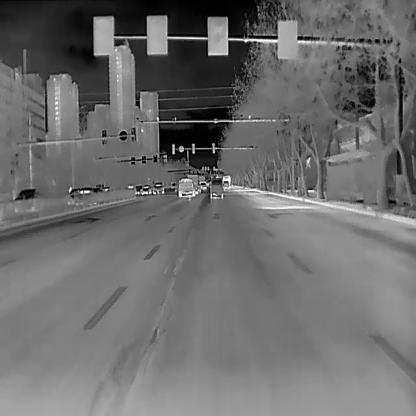car: (12, 188, 44, 211), (73, 186, 95, 205), (209, 176, 224, 199), (178, 177, 194, 198), (152, 181, 163, 194), (140, 183, 151, 195)
